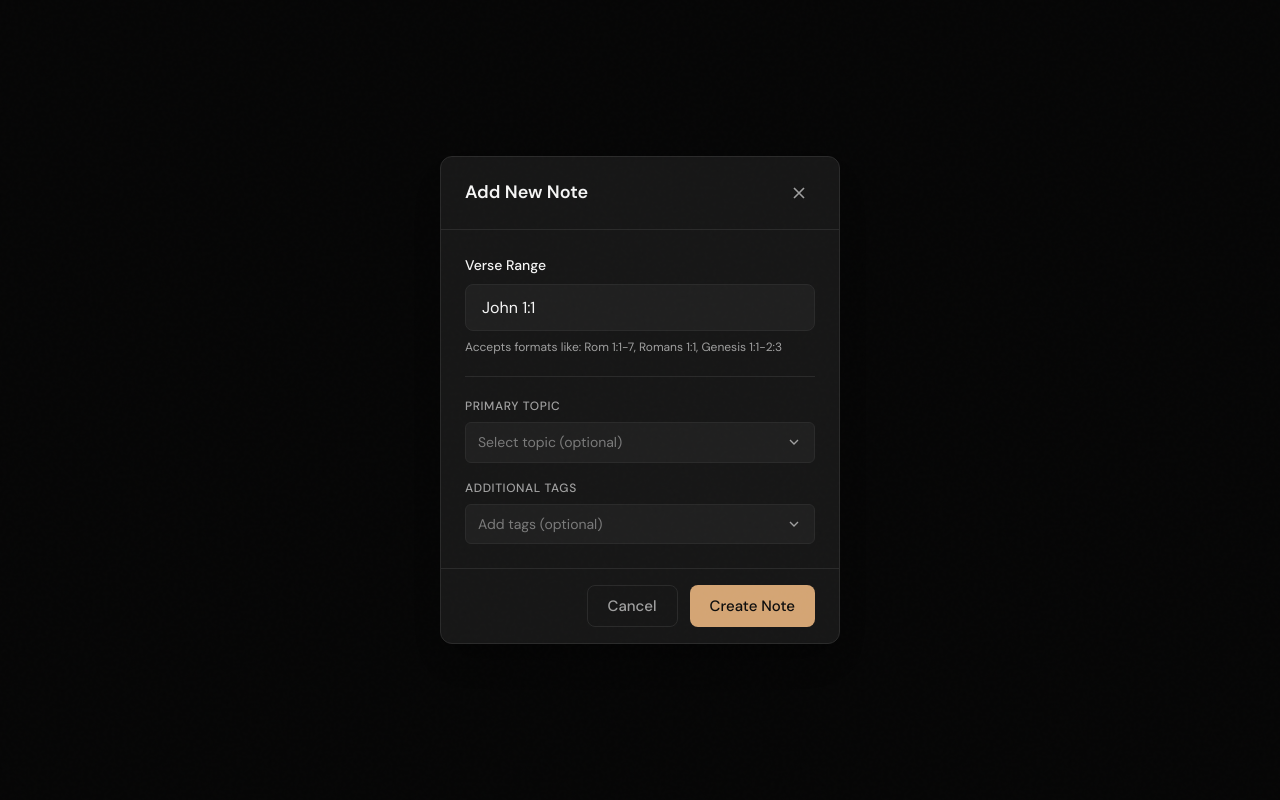
Test: AddNoteModal › validation › shows error for whole chapter reference
The width and height of the screenshot is (1280, 800).
Replace the text in the field with placeholder "e.g., Romans 1:1-7" with "Romans 1" at {"x": 640, "y": 308}, box 465,284 -> 815,331
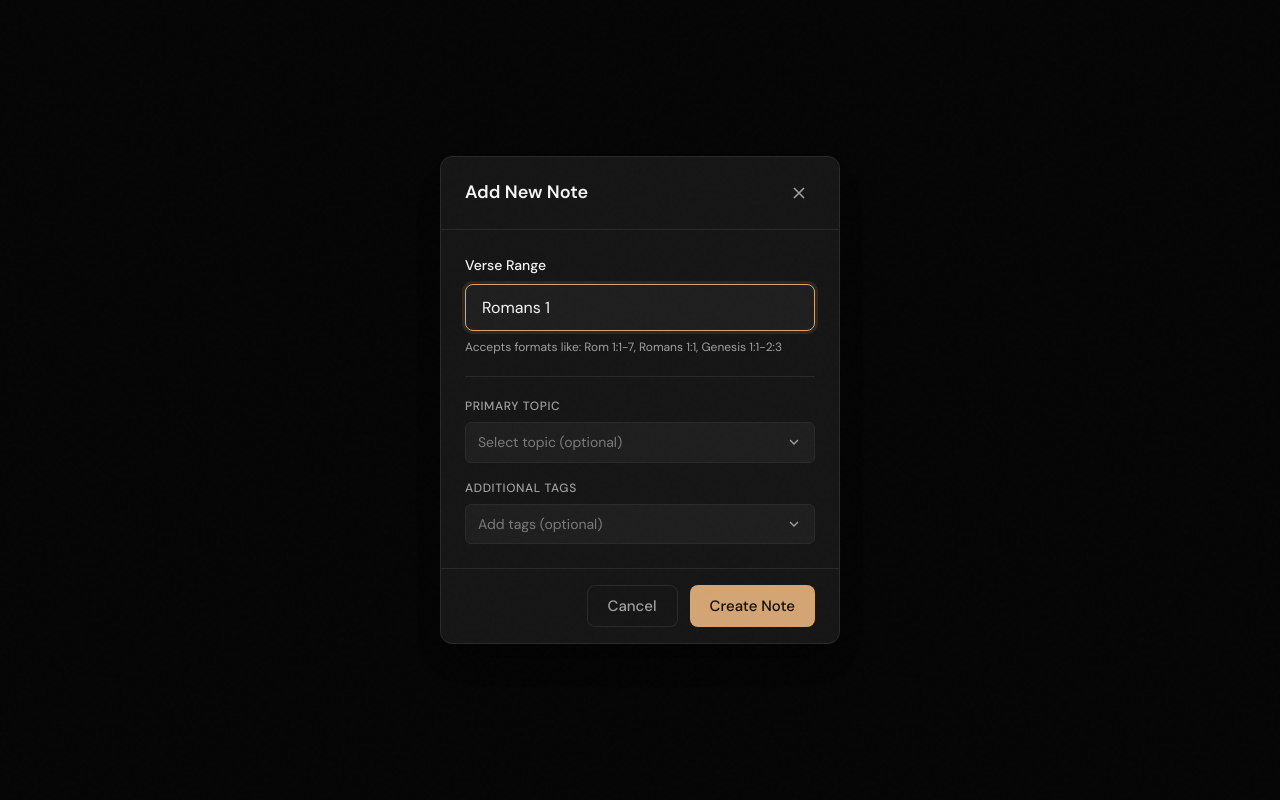
Click the button "Create Note" at {"x": 752, "y": 606}, box 690,585 -> 815,627
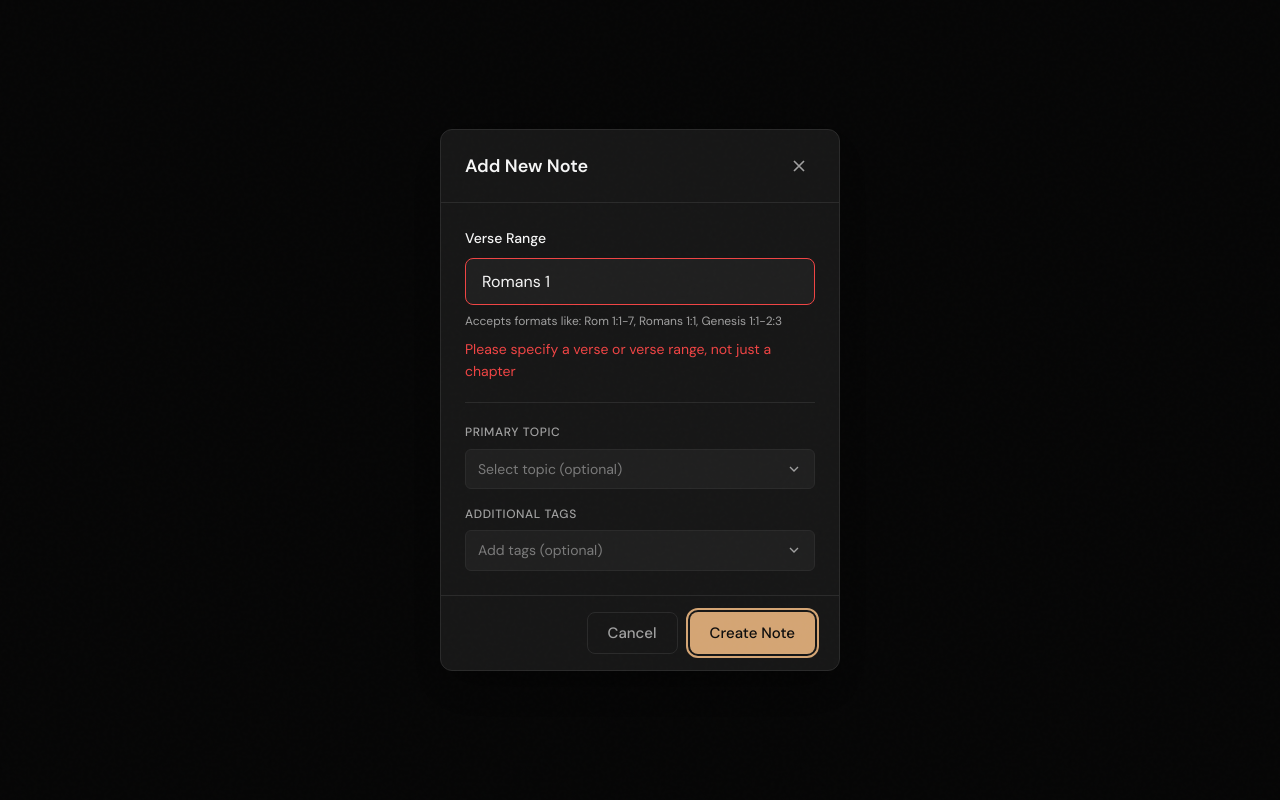
Expected: the text "Please specify a verse or verse range, not just a chapter" is shown, 465,338 -> 815,382
